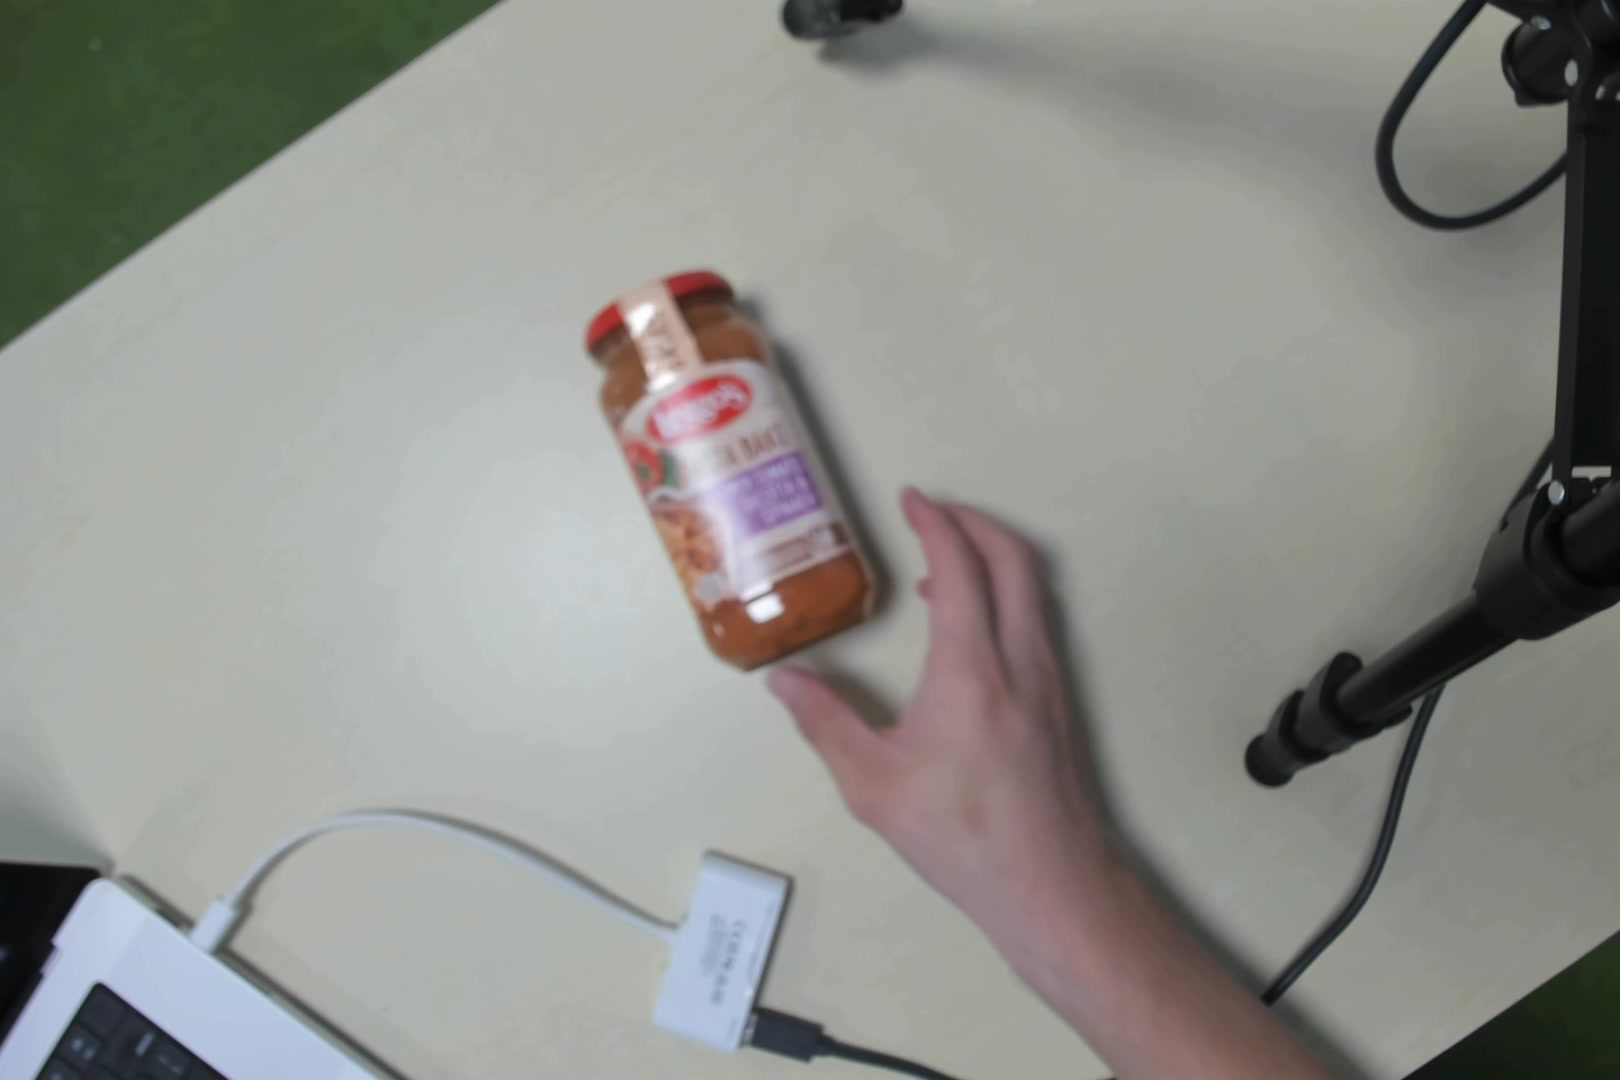Pasta_500-599g_Halal_NonHealthy: (624, 281, 830, 615)
